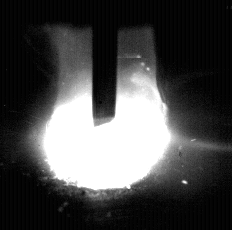arame: (92, 0, 117, 128)
poca: (43, 0, 171, 230)
